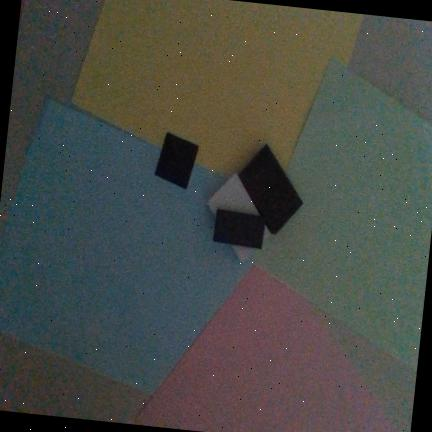Paralelepipedo: (207, 172, 272, 263), (238, 144, 303, 235), (213, 210, 265, 250)
Piramide: (155, 131, 199, 189)
